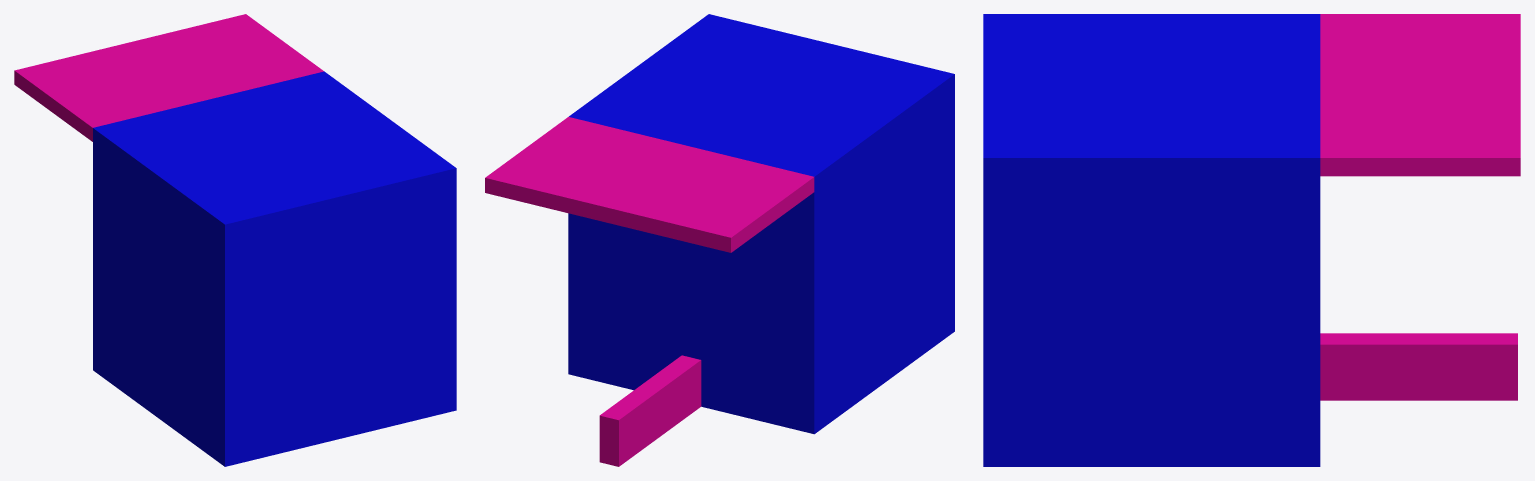
Rendered from TuileTunnel02.fbx.
3 renders of one model, left to right at view 1: azimuth 30°, elevation 25°; view 2: azimuth 150°, elevation 25°; view 3: azimuth 270°, elevation 25°, orthographic. The views are drawn at different scales.
Visible parts, largest first — view 1: 0,2 tunnel; view 2: 0,2 tunnel; view 3: 0,2 tunnel.
Part boxes in pixels (left/top/right/bottom): 0,2 tunnel: left=14, top=14, right=456, bottom=466; 0,2 tunnel: left=485, top=14, right=954, bottom=466; 0,2 tunnel: left=983, top=14, right=1520, bottom=466.
Bounding box in the file's own units: 100 × 100 × 158.
